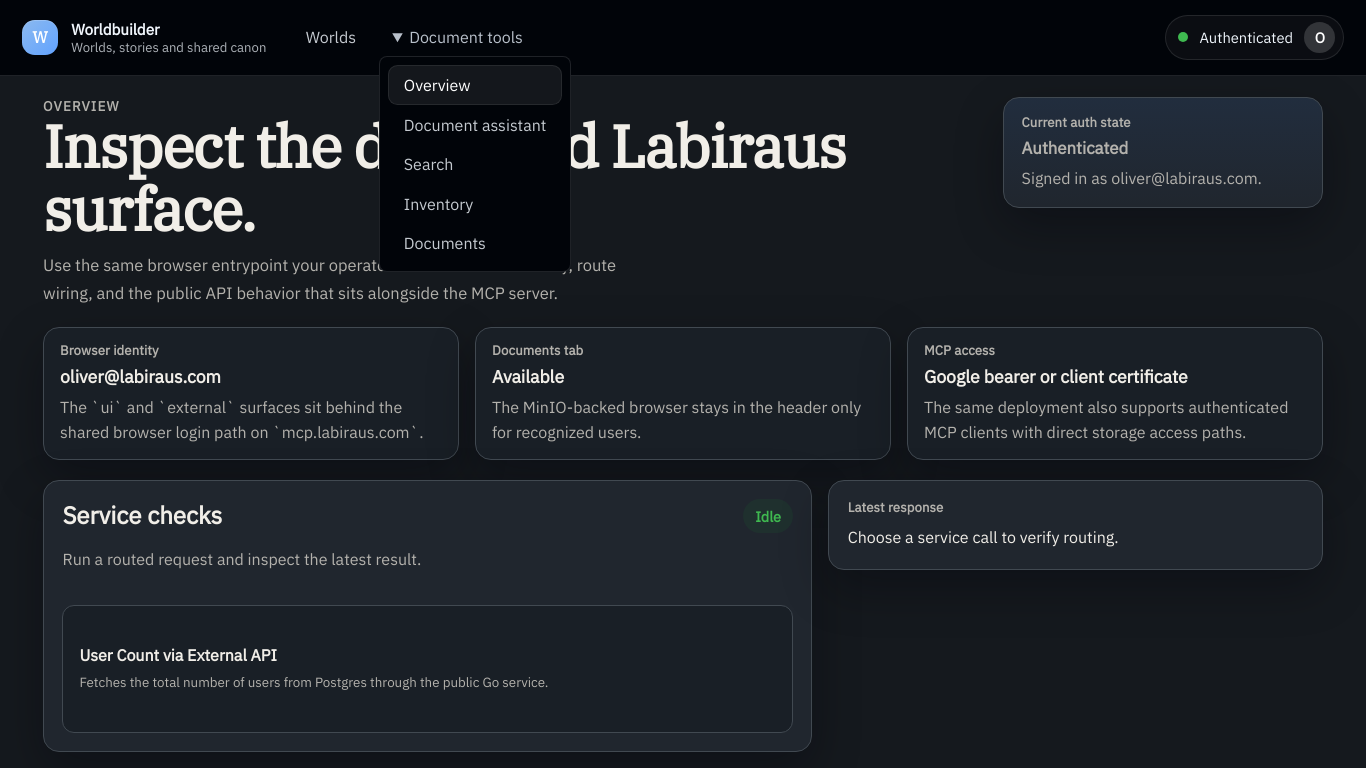
Scenario: App › approves an assistant file proposal
The width and height of the screenshot is (1366, 768).
Click the button "Document assistant" at (475, 125), box 388,105 -> 562,144
(page scrolled)
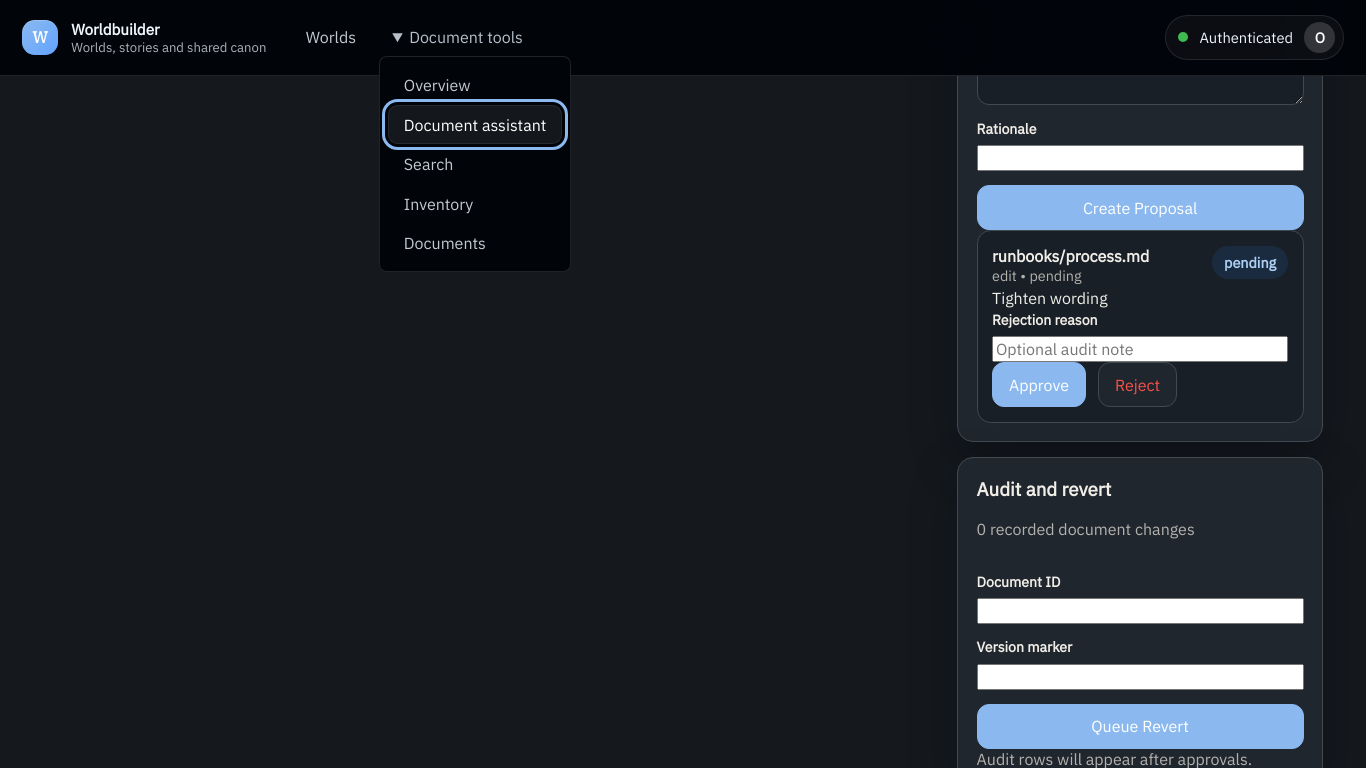
Now the text "Tighten wording" is shown, box 992,288 -> 1108,308
Click the button "Approve" at (1039, 385), box 992,362 -> 1086,407
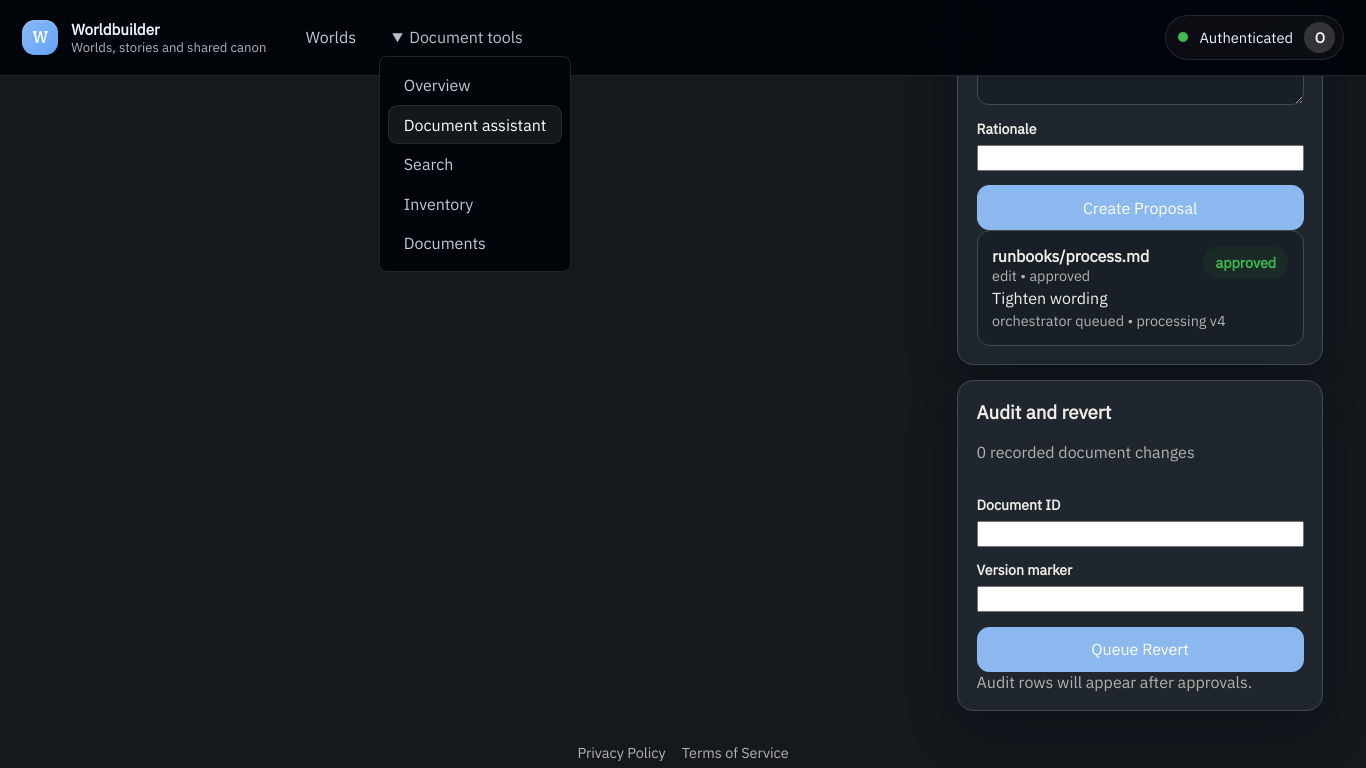
Now the text "approved" is shown, box 1204,246 -> 1288,279
Now the text "orchestrator queued • processing v4" is shown, box 992,311 -> 1226,330
